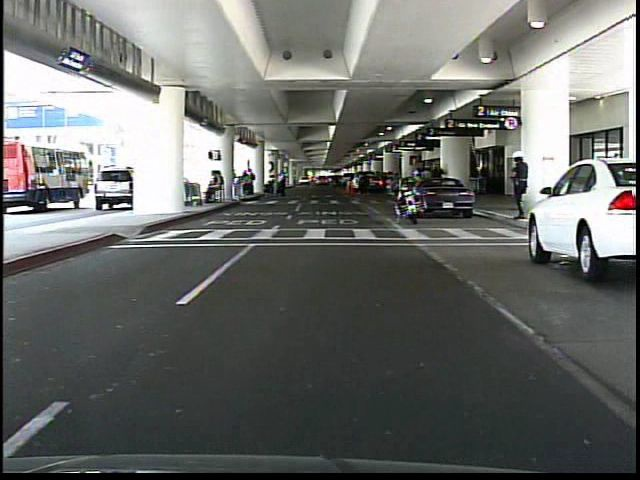person: (506, 147, 530, 225)
